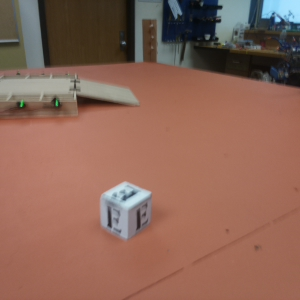blockE: (100, 182, 153, 237)
corner: (141, 18, 158, 65)
side: (1, 93, 78, 119)
slope: (79, 76, 138, 109)
